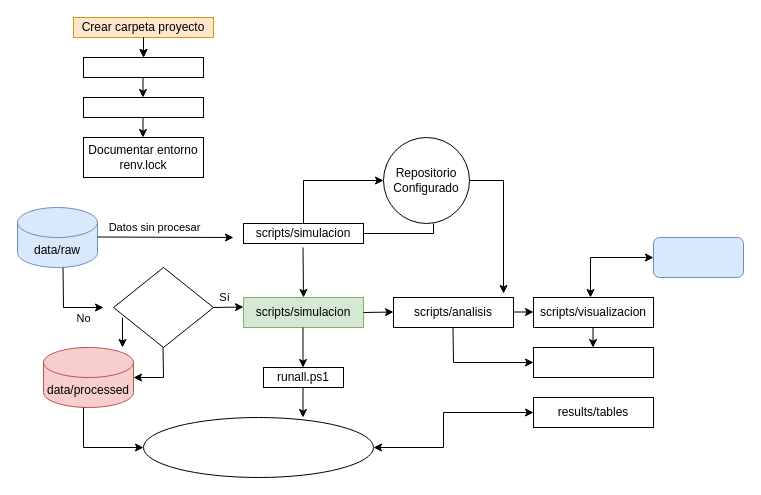
This 761x495 diagram has some shape labels left out. The shapes that lost their labels are listed below. From the top down, each one's centre as x and y in pixels, then its label:
At (x=143, y=67): "Inicializar Git".
At (x=143, y=107): "Configurar .gitignore".
At (x=698, y=257): "Repositorio (Github)".
At (x=163, y=307): "¿Datos válidos?".
At (x=593, y=362): "results/figures".
At (x=258, y=447): "Proyecto Reproducible".
